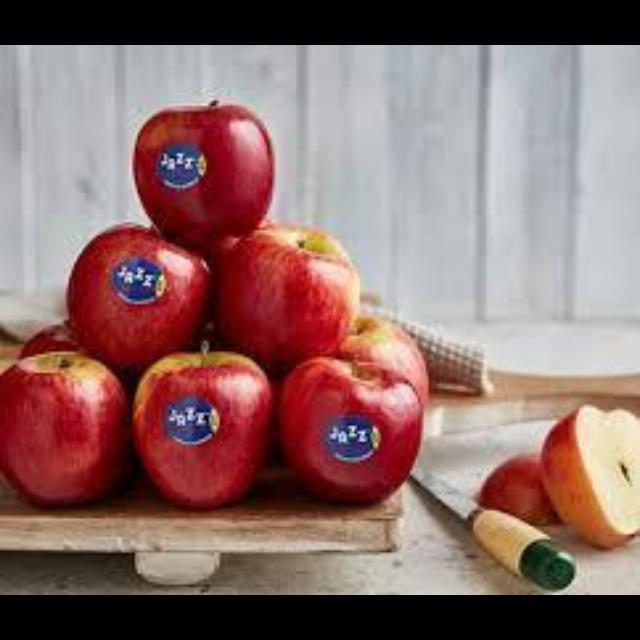apple: (132, 352, 272, 508), (132, 101, 272, 254), (214, 225, 357, 373), (66, 225, 209, 370), (278, 357, 420, 503), (0, 352, 130, 505), (540, 405, 637, 547), (333, 315, 426, 402)
